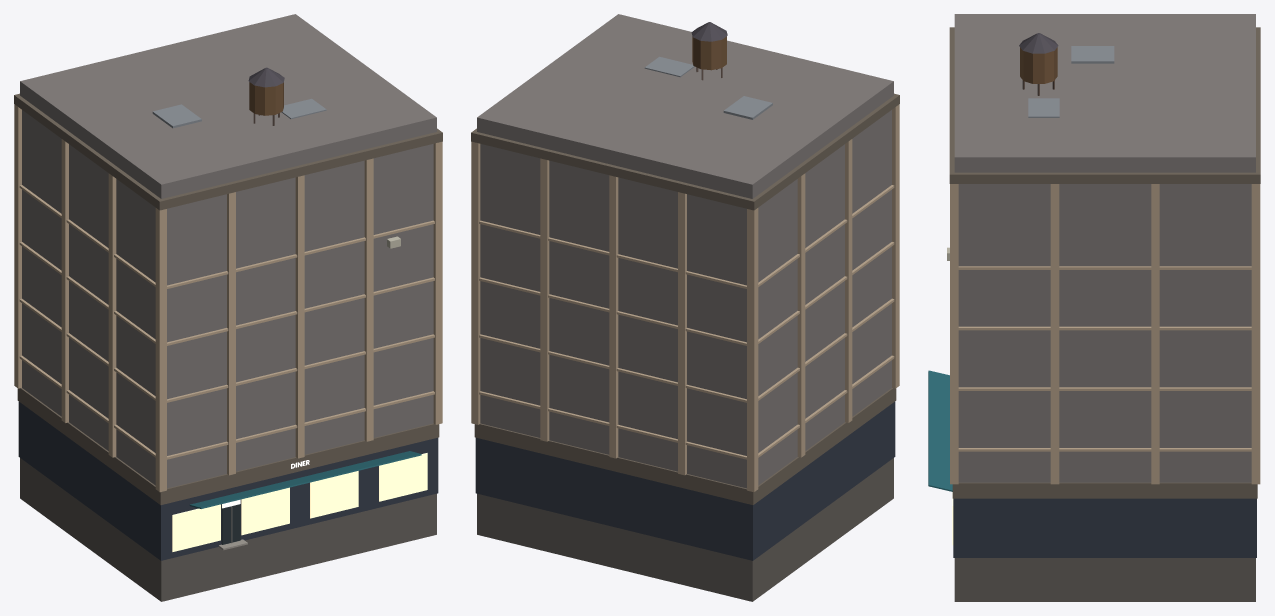
File: building_2.glb
The picture shows the model from 3 angles, left to right: view 1: azimuth 30°, elevation 25°; view 2: azimuth 150°, elevation 25°; view 3: azimuth 270°, elevation 25°; orthographic projection. The views are drawn at different scales.
Parts seen in each view (by area): view 1: building; view 2: building; view 3: building.
Part boxes in pixels (x1,y1,x2,y2): building: (14, 14, 442, 601); building: (471, 14, 899, 601); building: (928, 14, 1260, 601).
Bounding box in the file's own units: 18.5 × 29.3 × 17.64.
